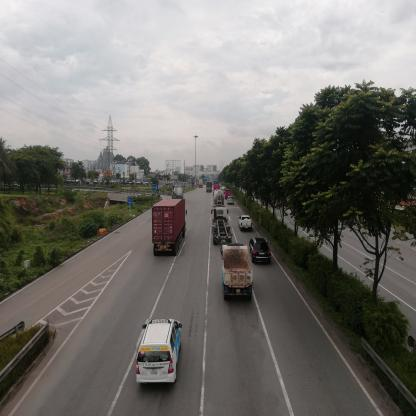car: (138, 320, 182, 383), (250, 238, 272, 263), (240, 216, 253, 231), (229, 196, 236, 205)
container: (154, 200, 186, 258), (212, 206, 233, 244)
truck: (225, 247, 253, 297), (214, 191, 225, 206), (173, 188, 185, 197), (208, 182, 213, 192)
